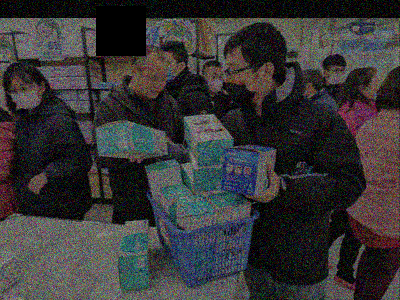with_mask: (224, 62, 260, 111), (7, 82, 42, 111), (207, 70, 224, 95), (327, 66, 347, 84)
without_mask: (137, 73, 168, 100)
